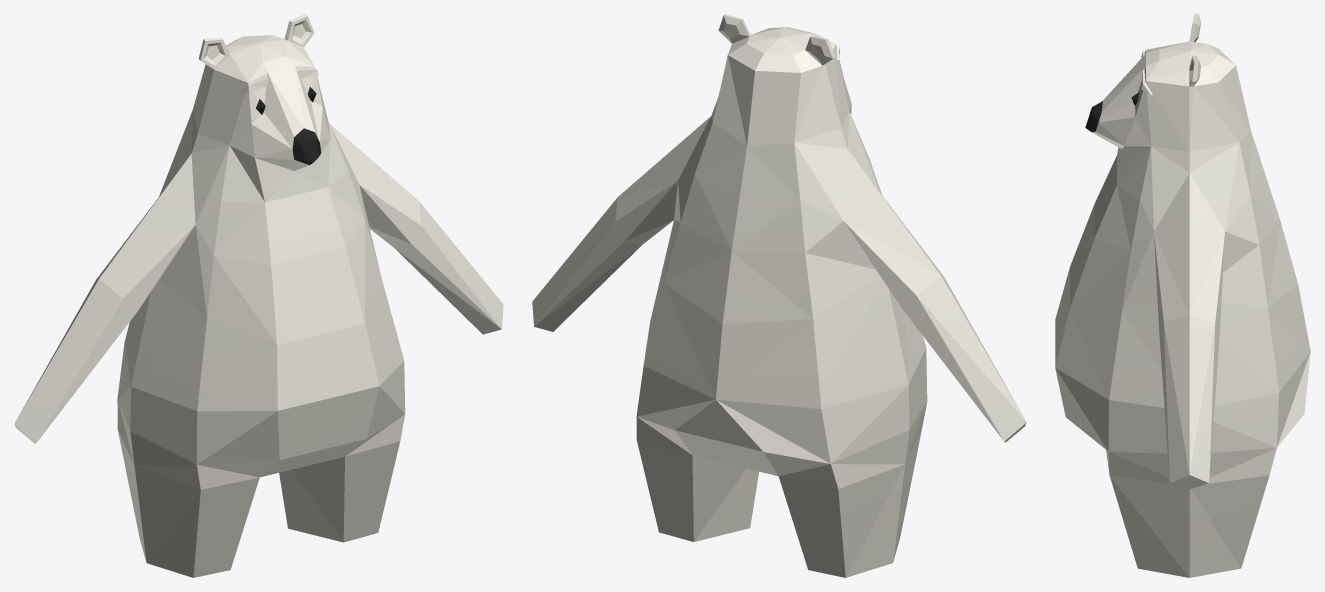
Rendered from HX-Beijixiong.FBX.
3 views of the same model, side by side, from view 1: azimuth 30°, elevation 25°; view 2: azimuth 150°, elevation 25°; view 3: azimuth 270°, elevation 25° (orthographic). The views are drawn at different scales.
Parts seen in each view (by area): view 1: beijixiong; view 2: beijixiong; view 3: beijixiong.
Boxes of the visible parts, x1=… form: beijixiong: x1=14, y1=14, x2=503, y2=577; beijixiong: x1=532, y1=14, x2=1026, y2=577; beijixiong: x1=1055, y1=14, x2=1310, y2=577.
Size of the model in its own units: 841 by 831 by 395.
